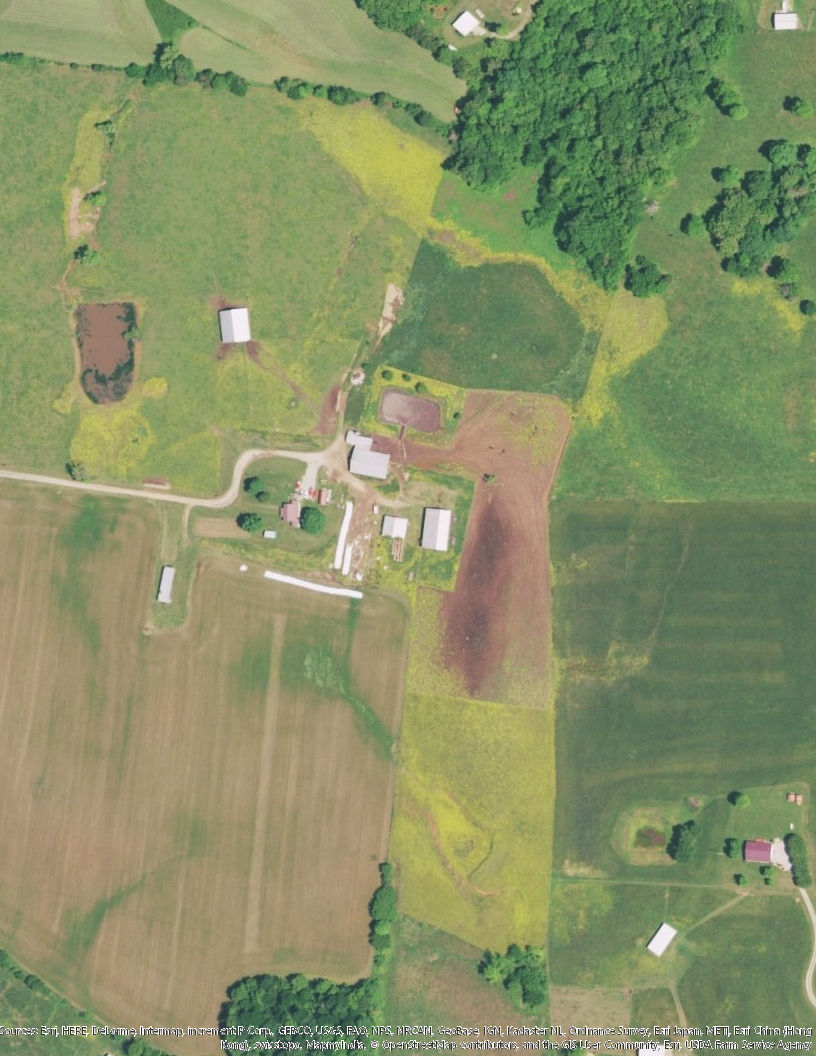cafo: (339, 428, 406, 487), (213, 298, 257, 353), (417, 500, 457, 556)
